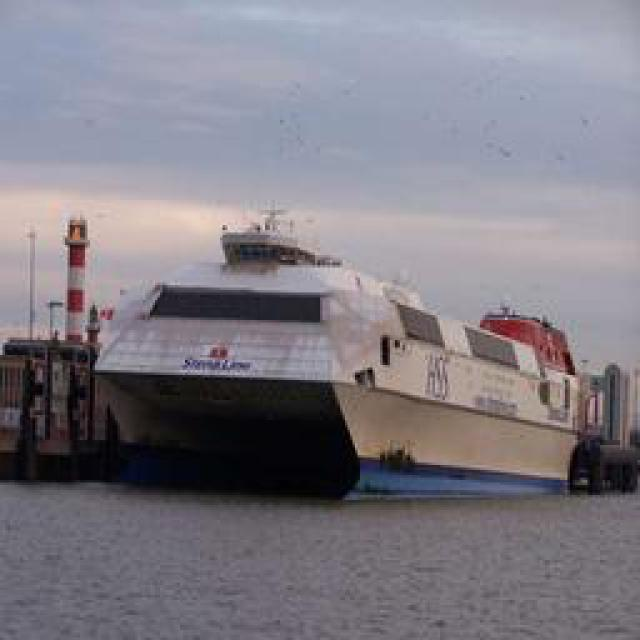Ship: (84, 214, 629, 494)
